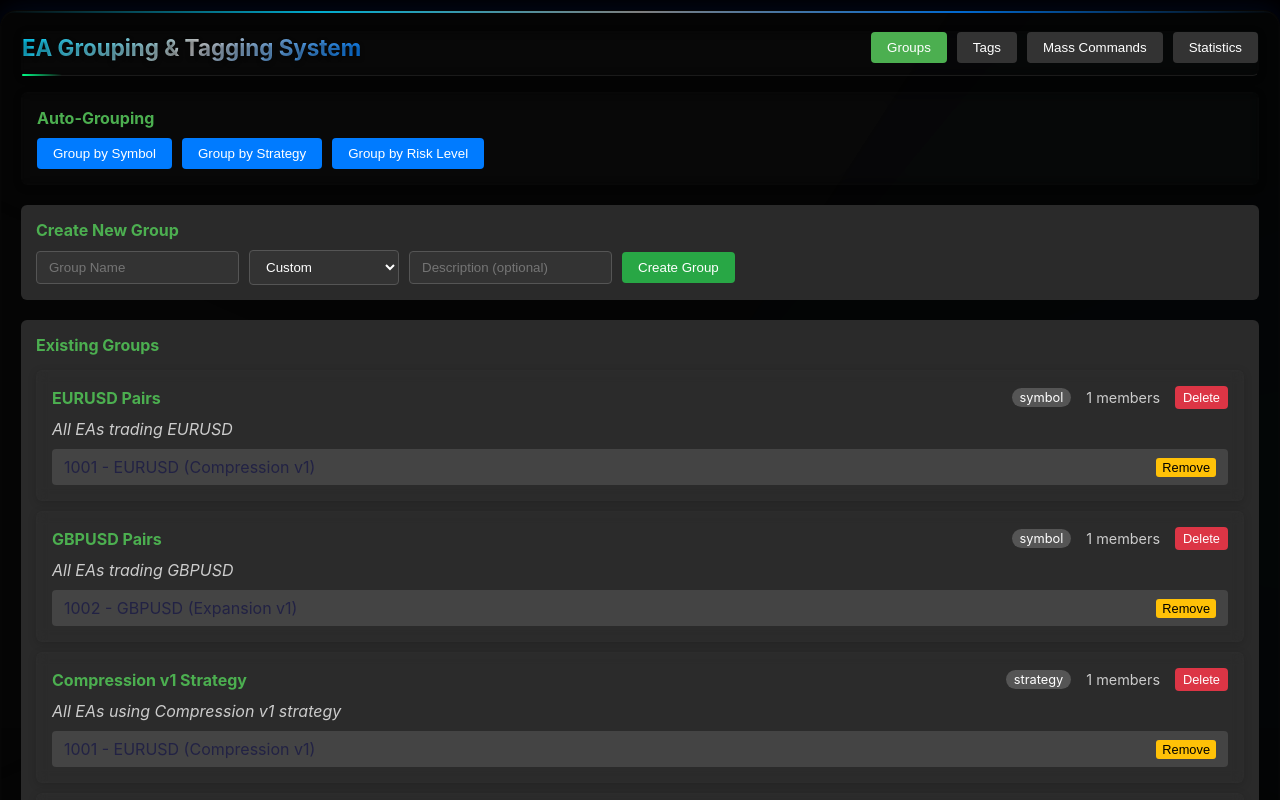
Test case: EAGroupingPanel › can switch between tabs
This screenshot has width=1280, height=800.
Check: the heading "Auto-Grouping" is shown, box x1=37 y1=108 x2=154 y2=128
Note: Switch to Tags tab
Click the button "Tags" at (987, 48), box x1=957 y1=32 x2=1017 y2=63
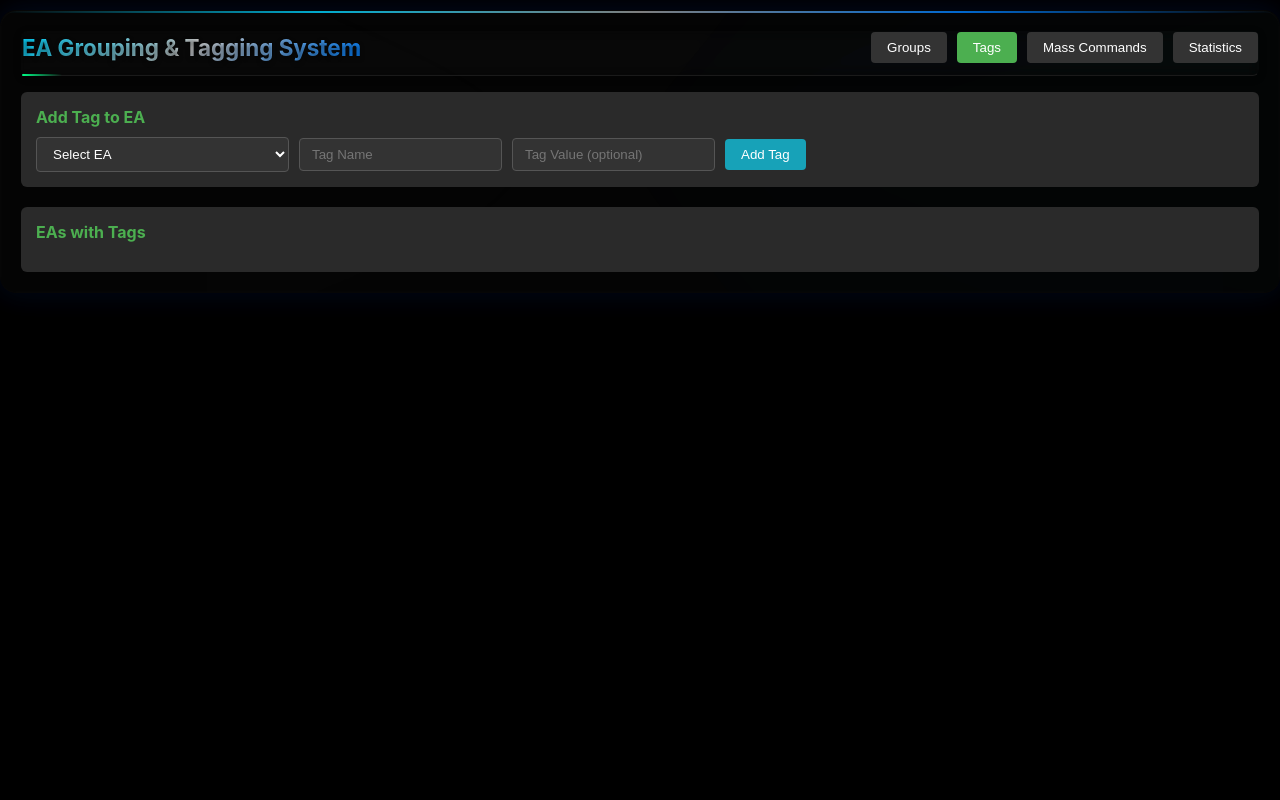
Check: the heading "Add Tag to EA" is shown, box x1=36 y1=107 x2=145 y2=127
Note: Switch to Mass Commands tab
Click the button "Mass Commands" at (1095, 48), box x1=1027 y1=32 x2=1163 y2=63
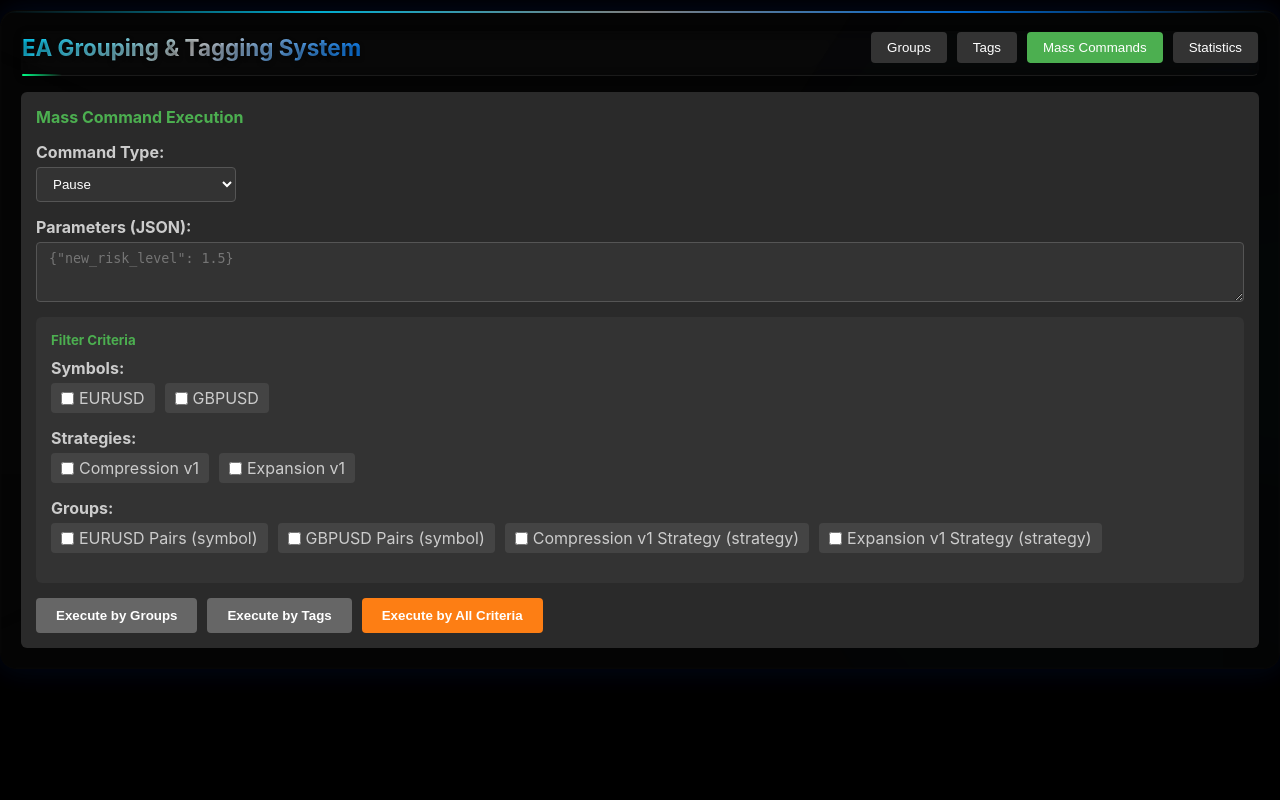
Check: the heading "Mass Command Execution" is shown, box x1=36 y1=107 x2=243 y2=127
Note: Switch to Statistics tab
Click the button "Statistics" at (1215, 48), box x1=1173 y1=32 x2=1258 y2=63
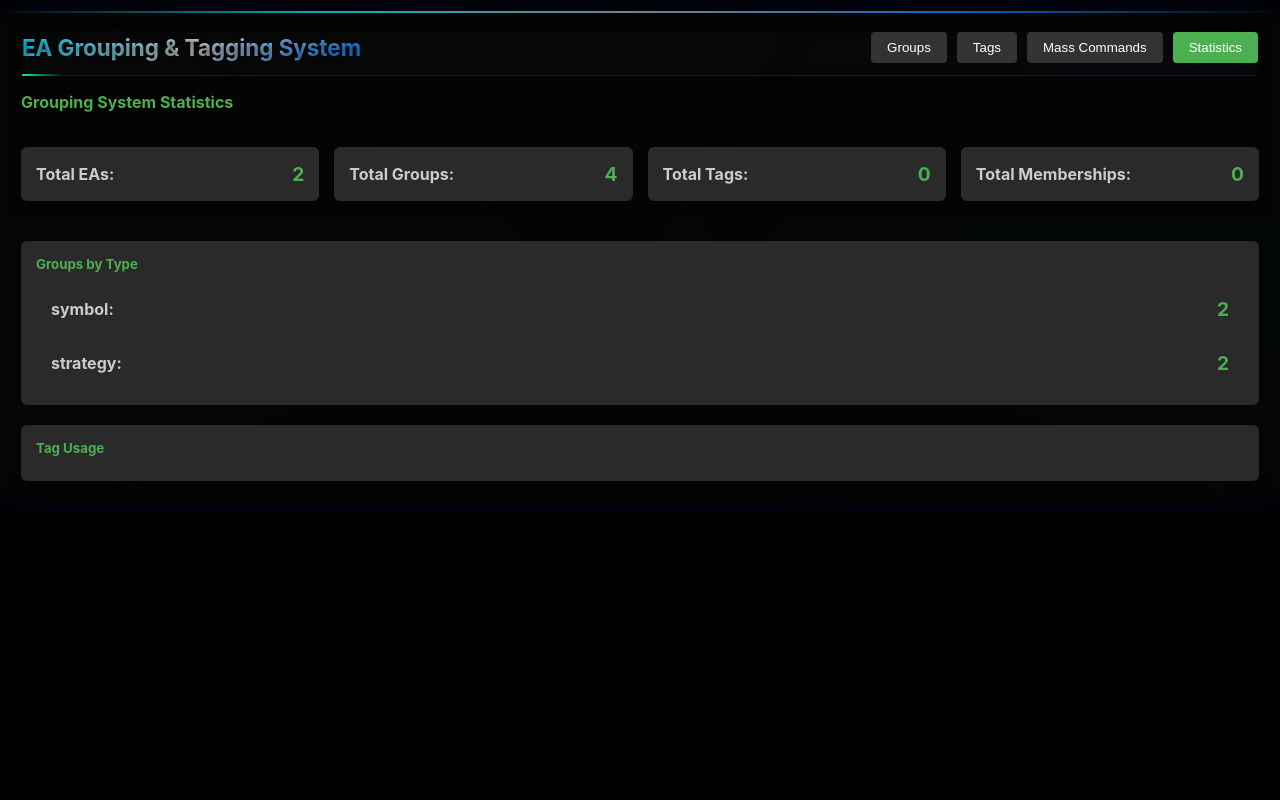
Check: the heading "Grouping System Statistics" is shown, box x1=21 y1=92 x2=233 y2=112
